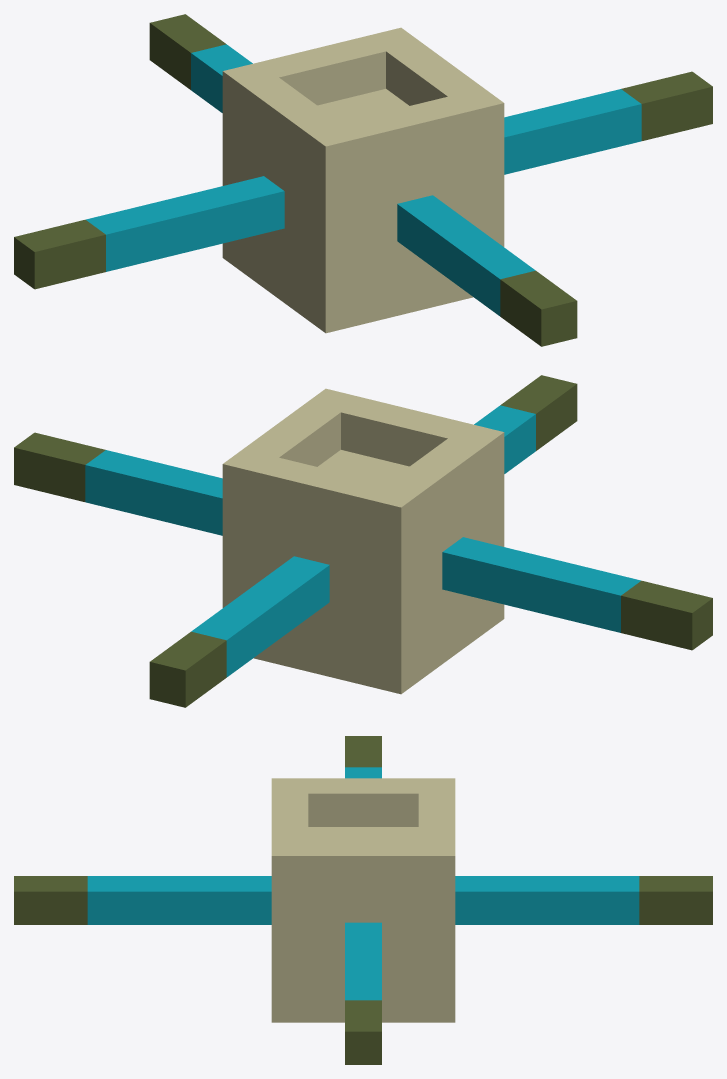
File: abd.obj
3 views of the same model, one above another, from view 1: azimuth 30°, elevation 25°; view 2: azimuth 150°, elevation 25°; view 3: azimuth 270°, elevation 25° (orthographic). The views are drawn at different scales.
Bounding box in the file's own units: 1.9 × 0.5 × 1.9.
1 material, 1 textured.
